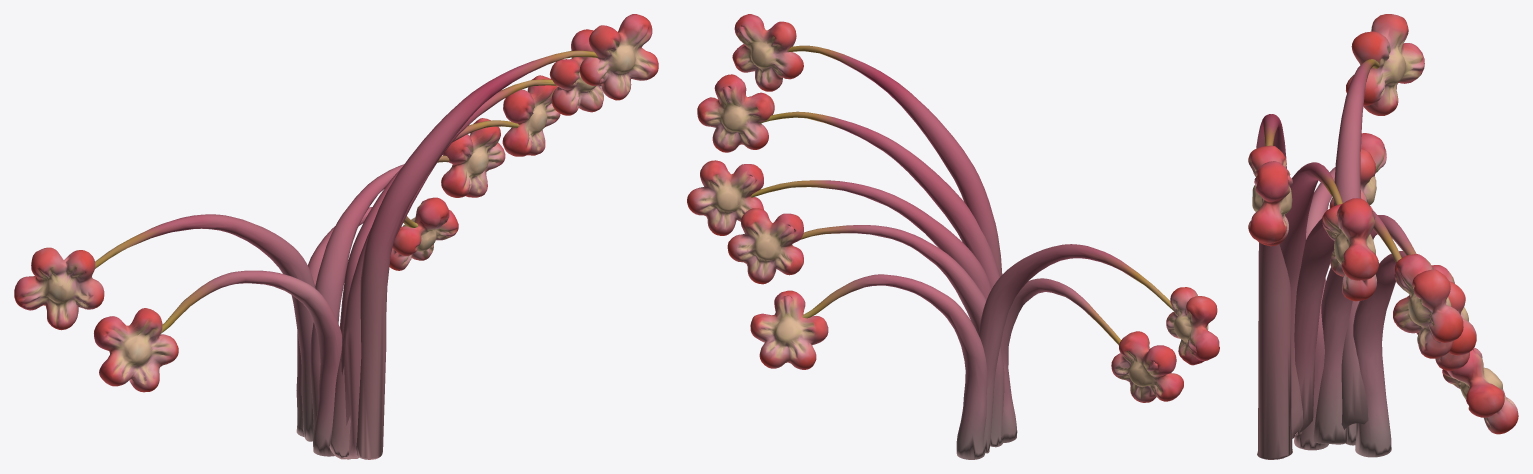
3 renders of one model, left to right at view 1: azimuth 30°, elevation 25°; view 2: azimuth 150°, elevation 25°; view 3: azimuth 270°, elevation 25°, orthographic. The views are drawn at different scales.
Parts seen in each view (by area): view 1: LOD 3_6720493226539483728_d61aa4d54b65f9a4b9f71cf390cbd75f; view 2: LOD 3_6720493226539483728_d61aa4d54b65f9a4b9f71cf390cbd75f; view 3: LOD 3_6720493226539483728_d61aa4d54b65f9a4b9f71cf390cbd75f.
Boxes of the visible parts, x1,y1,x2,y2 form: LOD 3_6720493226539483728_d61aa4d54b65f9a4b9f71cf390cbd75f: (14,14,658,459); LOD 3_6720493226539483728_d61aa4d54b65f9a4b9f71cf390cbd75f: (687,14,1219,459); LOD 3_6720493226539483728_d61aa4d54b65f9a4b9f71cf390cbd75f: (1248,14,1518,459).
Size of the model in its own units: 13.85 by 8.59 by 4.66.
